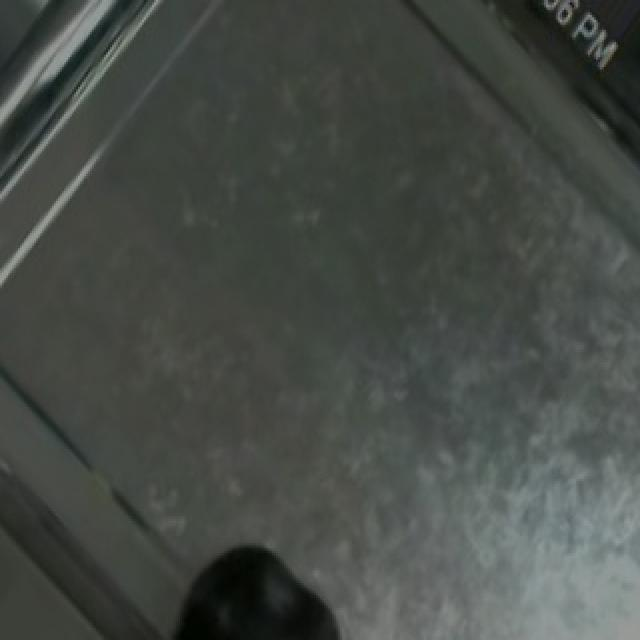Fruit: (166, 526, 358, 640)
